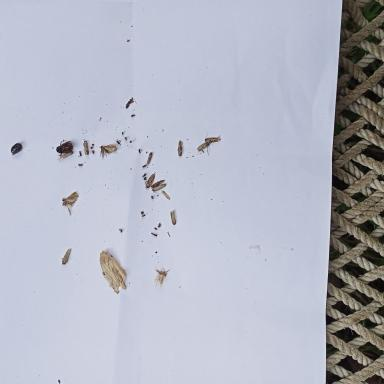pbw: (61, 192, 78, 216), (154, 266, 170, 287), (99, 144, 117, 160), (205, 132, 221, 146), (144, 172, 156, 190), (60, 248, 72, 265), (197, 142, 209, 155), (152, 184, 166, 194), (150, 180, 164, 188), (83, 140, 89, 155), (161, 190, 170, 200), (170, 210, 176, 225), (177, 140, 182, 156), (146, 152, 152, 165)
